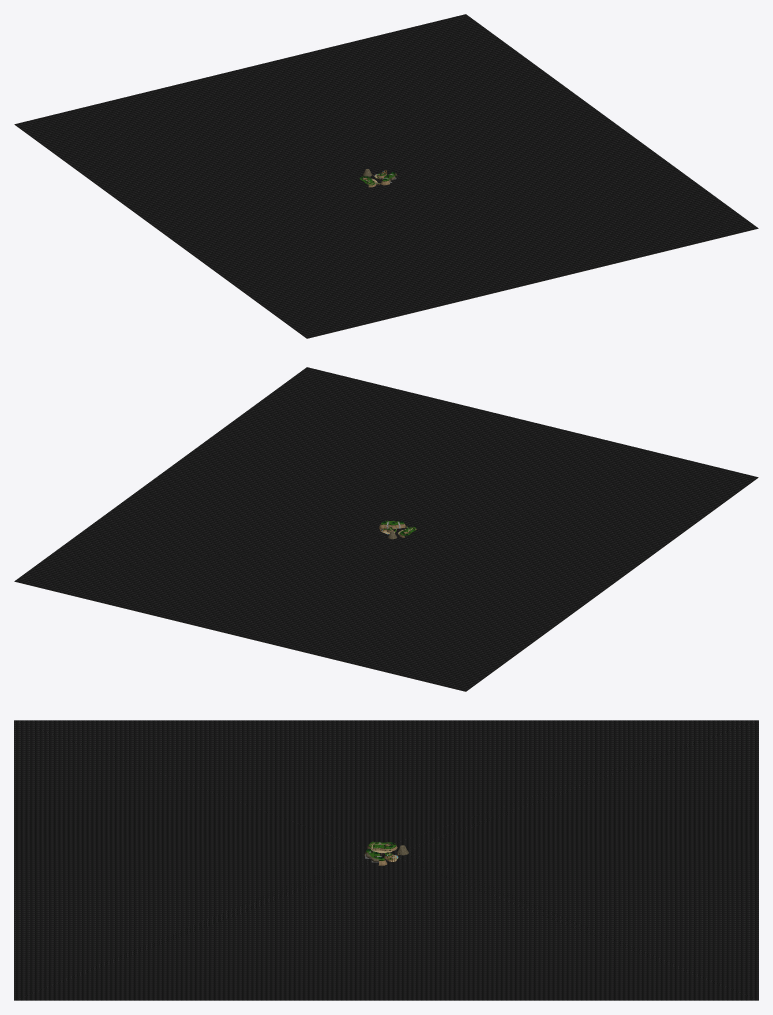
3 renders of one model, top to bottom at view 1: azimuth 30°, elevation 25°; view 2: azimuth 150°, elevation 25°; view 3: azimuth 270°, elevation 25°, orthographic. The views are drawn at different scales.
Visible parts, largest first — view 1: ef_sea; view 2: ef_sea; view 3: ef_sea.
Part boxes in pixels (x1=…): ef_sea: x1=14, y1=14, x2=758, y2=338; ef_sea: x1=14, y1=367, x2=758, y2=691; ef_sea: x1=14, y1=720, x2=758, y2=1000.
Bounding box in the file's own units: 28201 × 394 × 31667.
26 materials, 26 textured.
